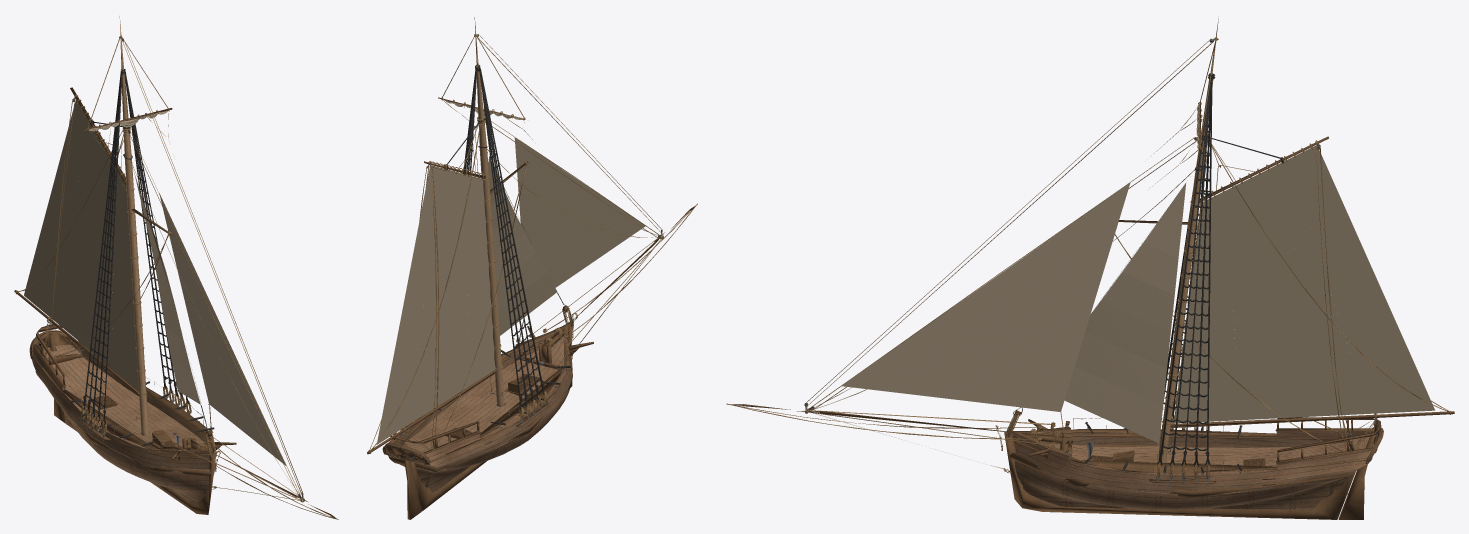
Rendered from sloop.glb.
3 renders of one model, left to right at view 1: azimuth 30°, elevation 25°; view 2: azimuth 150°, elevation 25°; view 3: azimuth 270°, elevation 25°, orthographic. The views are drawn at different scales.
Parts seen in each view (by area): view 1: Object_5, Object_9, Object_10, Object_4, Object_3, Object_12, Object_11; view 2: Object_5, Object_9, Object_10, Object_4, Object_3, Object_12, Object_11, Object_7; view 3: Object_5, Object_10, Object_9, Object_4, Object_11, Object_3, Object_12.
Boxes of the visible parts, x1,y1,x2,y2 form: Object_5: [24, 99, 285, 465]; Object_9: [31, 339, 214, 472]; Object_10: [14, 87, 336, 518]; Object_4: [15, 35, 338, 519]; Object_3: [83, 69, 210, 436]; Object_12: [119, 16, 148, 435]; Object_11: [59, 405, 215, 501]; Object_5: [376, 100, 645, 444]; Object_9: [385, 327, 571, 468]; Object_10: [367, 97, 695, 519]; Object_4: [368, 34, 697, 453]; Object_3: [443, 65, 566, 410]; Object_12: [474, 17, 504, 405]; Object_11: [400, 374, 572, 493]; Object_7: [382, 443, 430, 465]; Object_5: [841, 104, 1435, 442]; Object_10: [731, 103, 1454, 519]; Object_9: [1012, 429, 1373, 493]; Object_4: [726, 37, 1450, 479]; Object_11: [1014, 461, 1347, 509]; Object_3: [1013, 73, 1283, 467]; Object_12: [1158, 19, 1218, 462].
Size of the model in its own units: 4.47 by 21.41 by 27.97.
Materials: 11 (10 with a texture image).
